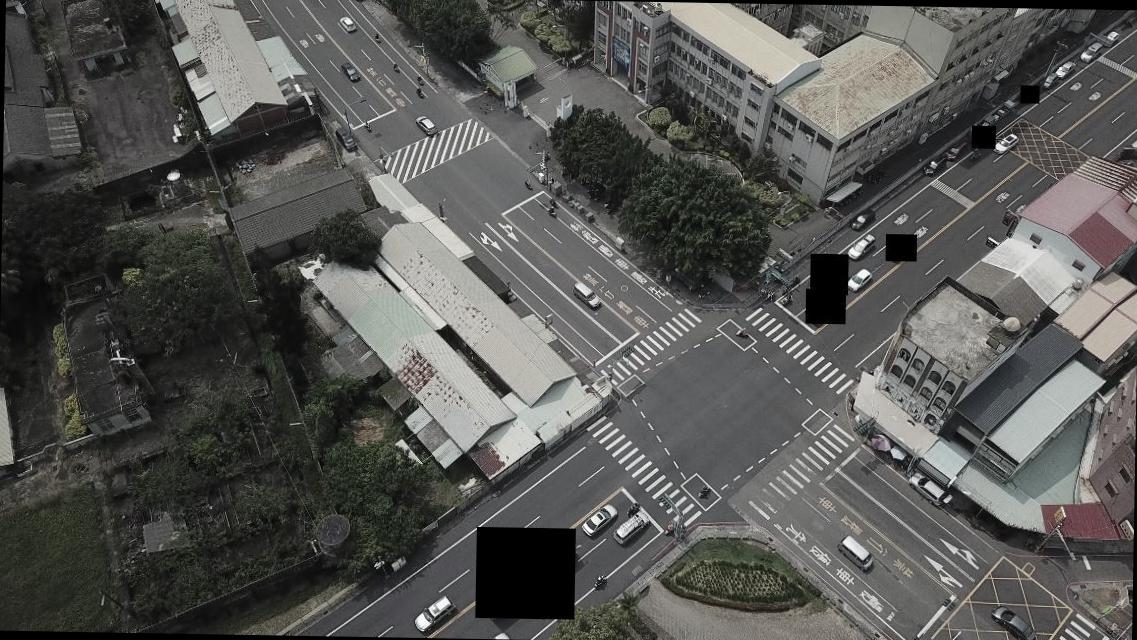vehicle: (415, 593, 458, 632), (528, 579, 572, 616), (834, 534, 874, 574), (991, 606, 1037, 639), (908, 470, 948, 507), (581, 501, 619, 537), (612, 510, 650, 546), (574, 280, 601, 312), (850, 233, 876, 259), (847, 267, 874, 292), (992, 132, 1018, 156), (850, 206, 875, 230), (335, 125, 357, 152), (1081, 41, 1102, 61), (945, 140, 966, 160), (925, 154, 944, 176), (414, 116, 437, 134), (342, 62, 360, 83), (1058, 58, 1076, 76), (337, 14, 355, 31), (1044, 72, 1060, 86), (1107, 30, 1120, 44)
